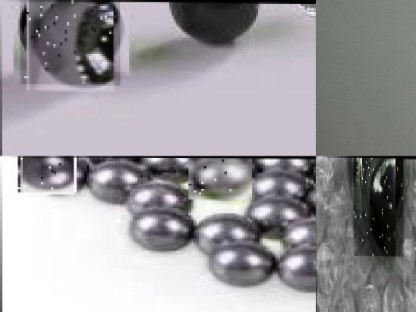ironball: (19, 0, 120, 85), (315, 59, 396, 137), (327, 0, 412, 66), (353, 156, 403, 256), (120, 201, 189, 259), (244, 192, 315, 241), (214, 235, 276, 289), (89, 158, 153, 207), (188, 157, 252, 199), (273, 241, 315, 305), (17, 156, 74, 193), (315, 19, 335, 89), (73, 156, 142, 163)
